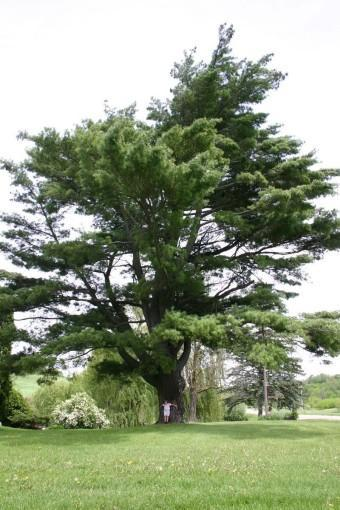tree: (13, 22, 325, 427)
